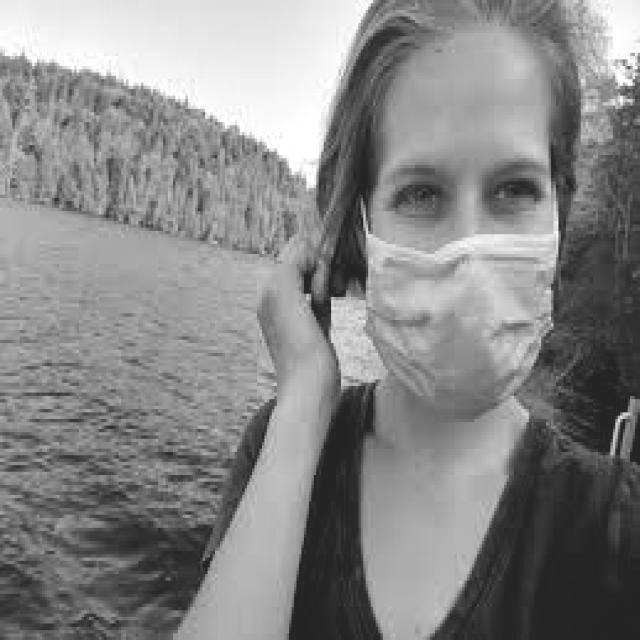fake: (366, 228, 561, 422)
real: (360, 35, 564, 432)
